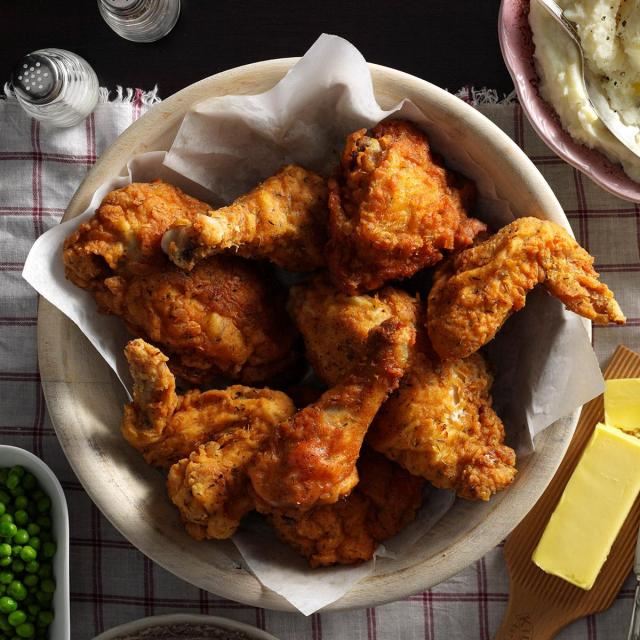Frango: (61, 108, 628, 563)
